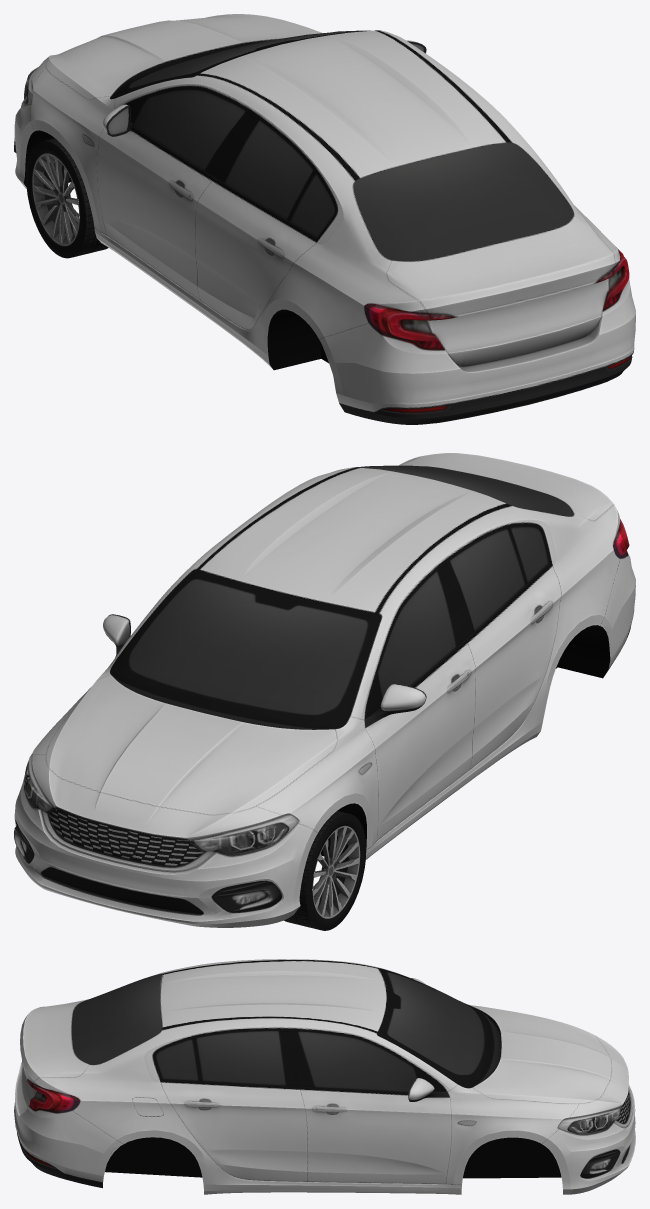
The model's file is car 29.fbx.
The picture shows the model from 3 angles, top to bottom: view 1: azimuth 30°, elevation 25°; view 2: azimuth 150°, elevation 25°; view 3: azimuth 270°, elevation 25°; orthographic projection. The views are drawn at different scales.
Parts seen in each view (by area): view 1: body3, tyer, light; view 2: body3, tyer, light; view 3: body3, light.
Part boxes in pixels (x1=…): body3: x1=14, y1=14, x2=635, y2=424; tyer: x1=26, y1=138, x2=108, y2=258; light: x1=24, y1=67, x2=629, y2=350; body3: x1=14, y1=453, x2=635, y2=927; tyer: x1=284, y1=811, x2=366, y2=930; light: x1=21, y1=519, x2=629, y2=904; body3: x1=14, y1=959, x2=635, y2=1194; light: x1=27, y1=1079, x2=621, y2=1170.
Size of the model in its own units: 191 by 144 by 437.
1 material, 1 textured.
